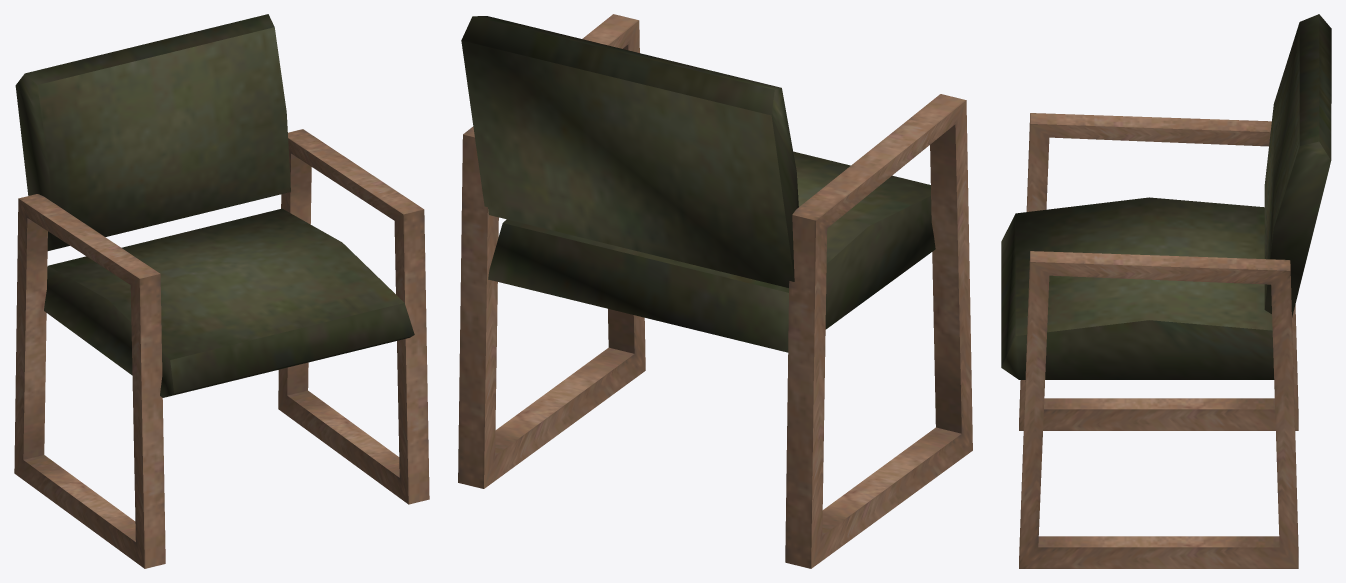
The model's file is chr_med_reg_blue.fbx.
3 renders of one model, left to right at view 1: azimuth 30°, elevation 25°; view 2: azimuth 150°, elevation 25°; view 3: azimuth 270°, elevation 25°, orthographic. The views are drawn at different scales.
Parts seen in each view (by area): view 1: mesh_0; view 2: mesh_0; view 3: mesh_0.
Part boxes in pixels (bbox=[...]): mesh_0: bbox=[14, 14, 429, 568]; mesh_0: bbox=[458, 14, 972, 568]; mesh_0: bbox=[1001, 14, 1331, 568].
Size of the model in its own units: 68.06 by 88.69 by 63.81.
1 material, 1 textured.
